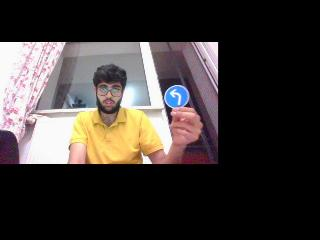left: (164, 85, 190, 109)
